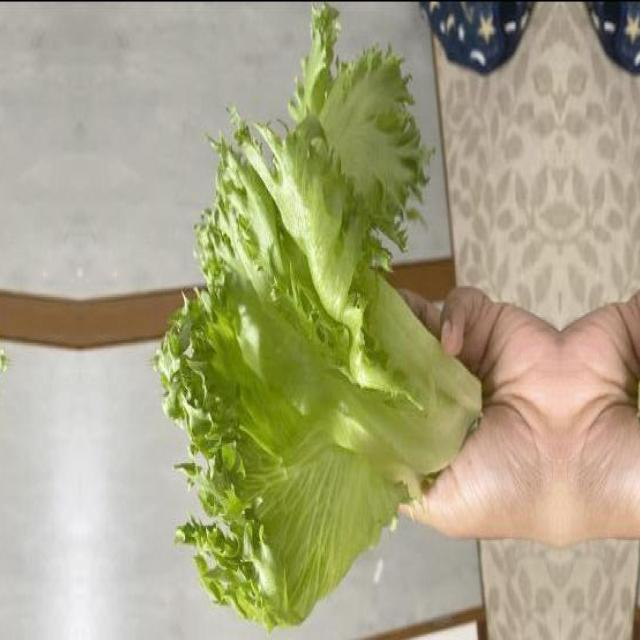healthy: (157, 1, 475, 632), (0, 0, 3, 631)
